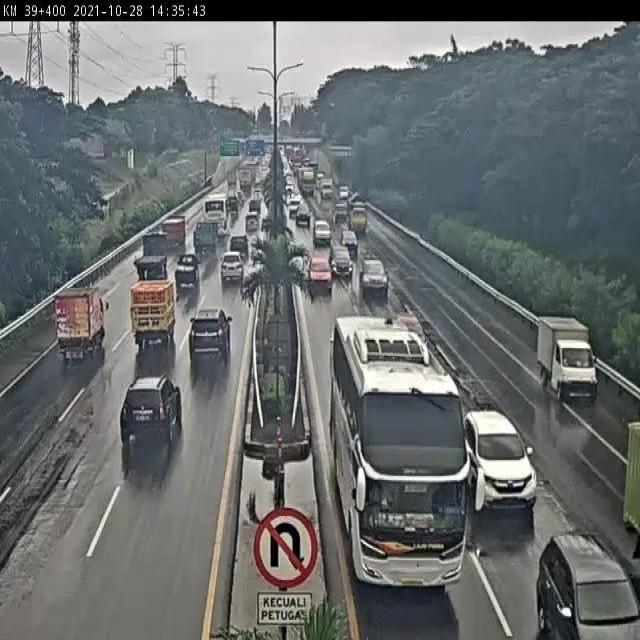big bus: (333, 314, 471, 590), (203, 194, 233, 238)
big truck: (299, 167, 315, 196), (238, 169, 254, 192)
car: (536, 529, 640, 640), (465, 409, 539, 507), (537, 319, 599, 397), (120, 373, 183, 447), (191, 309, 231, 362), (360, 259, 388, 293), (175, 254, 200, 290), (219, 252, 244, 284), (308, 257, 331, 287), (332, 248, 352, 275), (230, 236, 249, 259), (402, 316, 419, 339), (313, 221, 330, 243), (244, 214, 261, 234), (340, 230, 356, 250), (296, 206, 310, 222), (231, 193, 244, 210), (246, 199, 260, 213), (334, 202, 346, 218)
small truck: (55, 289, 107, 356), (130, 280, 176, 343), (622, 419, 640, 564), (133, 233, 171, 280), (193, 222, 219, 255), (162, 216, 186, 247), (349, 200, 369, 231), (224, 197, 238, 219), (320, 178, 332, 198)
